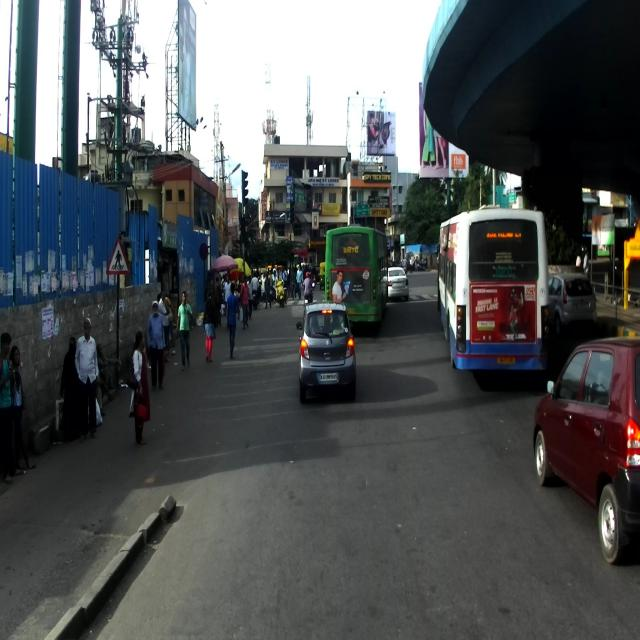Car_Maruti-Suzuki: (532, 336, 640, 564), (296, 302, 356, 402)
bus: (437, 202, 547, 372)
